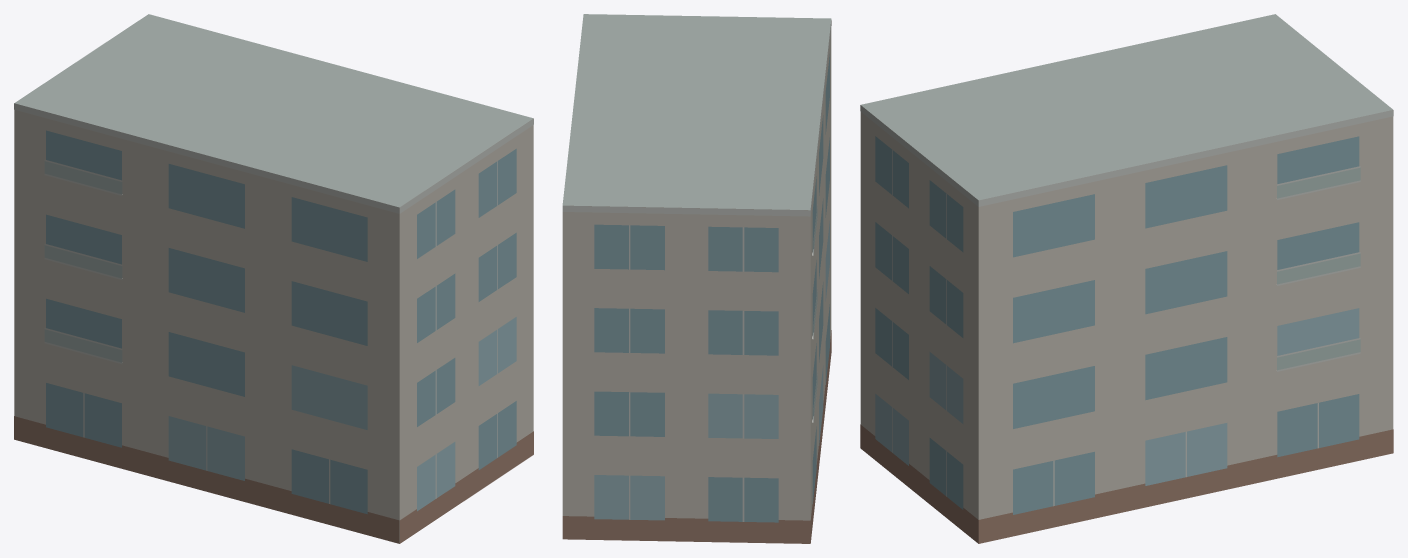
Rendered from survey-upis-32985737.glb.
The picture shows the model from 3 angles, left to right: view 1: azimuth 30°, elevation 25°; view 2: azimuth 150°, elevation 25°; view 3: azimuth 270°, elevation 25°; orthographic projection. The views are drawn at different scales.
Visible parts, largest first — view 1: survey-upis-32985737.tmp; view 2: survey-upis-32985737.tmp; view 3: survey-upis-32985737.tmp.
Part boxes in pixels (x1,y1,x2,y2): survey-upis-32985737.tmp: (14,14,533,543); survey-upis-32985737.tmp: (562,14,831,543); survey-upis-32985737.tmp: (860,14,1393,543).
Size of the model in its own units: 14.91 by 12.8 by 18.01.
